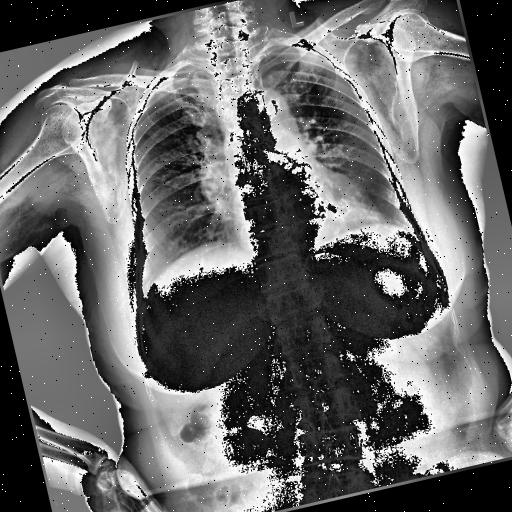0- Aortic enlargement: (234, 80, 298, 143), (243, 81, 296, 136), (256, 83, 298, 133)
3- Cardiomegaly: (228, 174, 387, 260), (228, 175, 386, 258), (230, 180, 386, 260)
